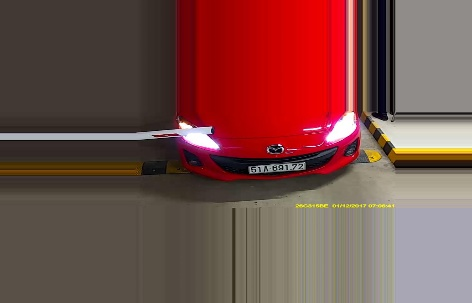plate: (245, 160, 307, 173)
